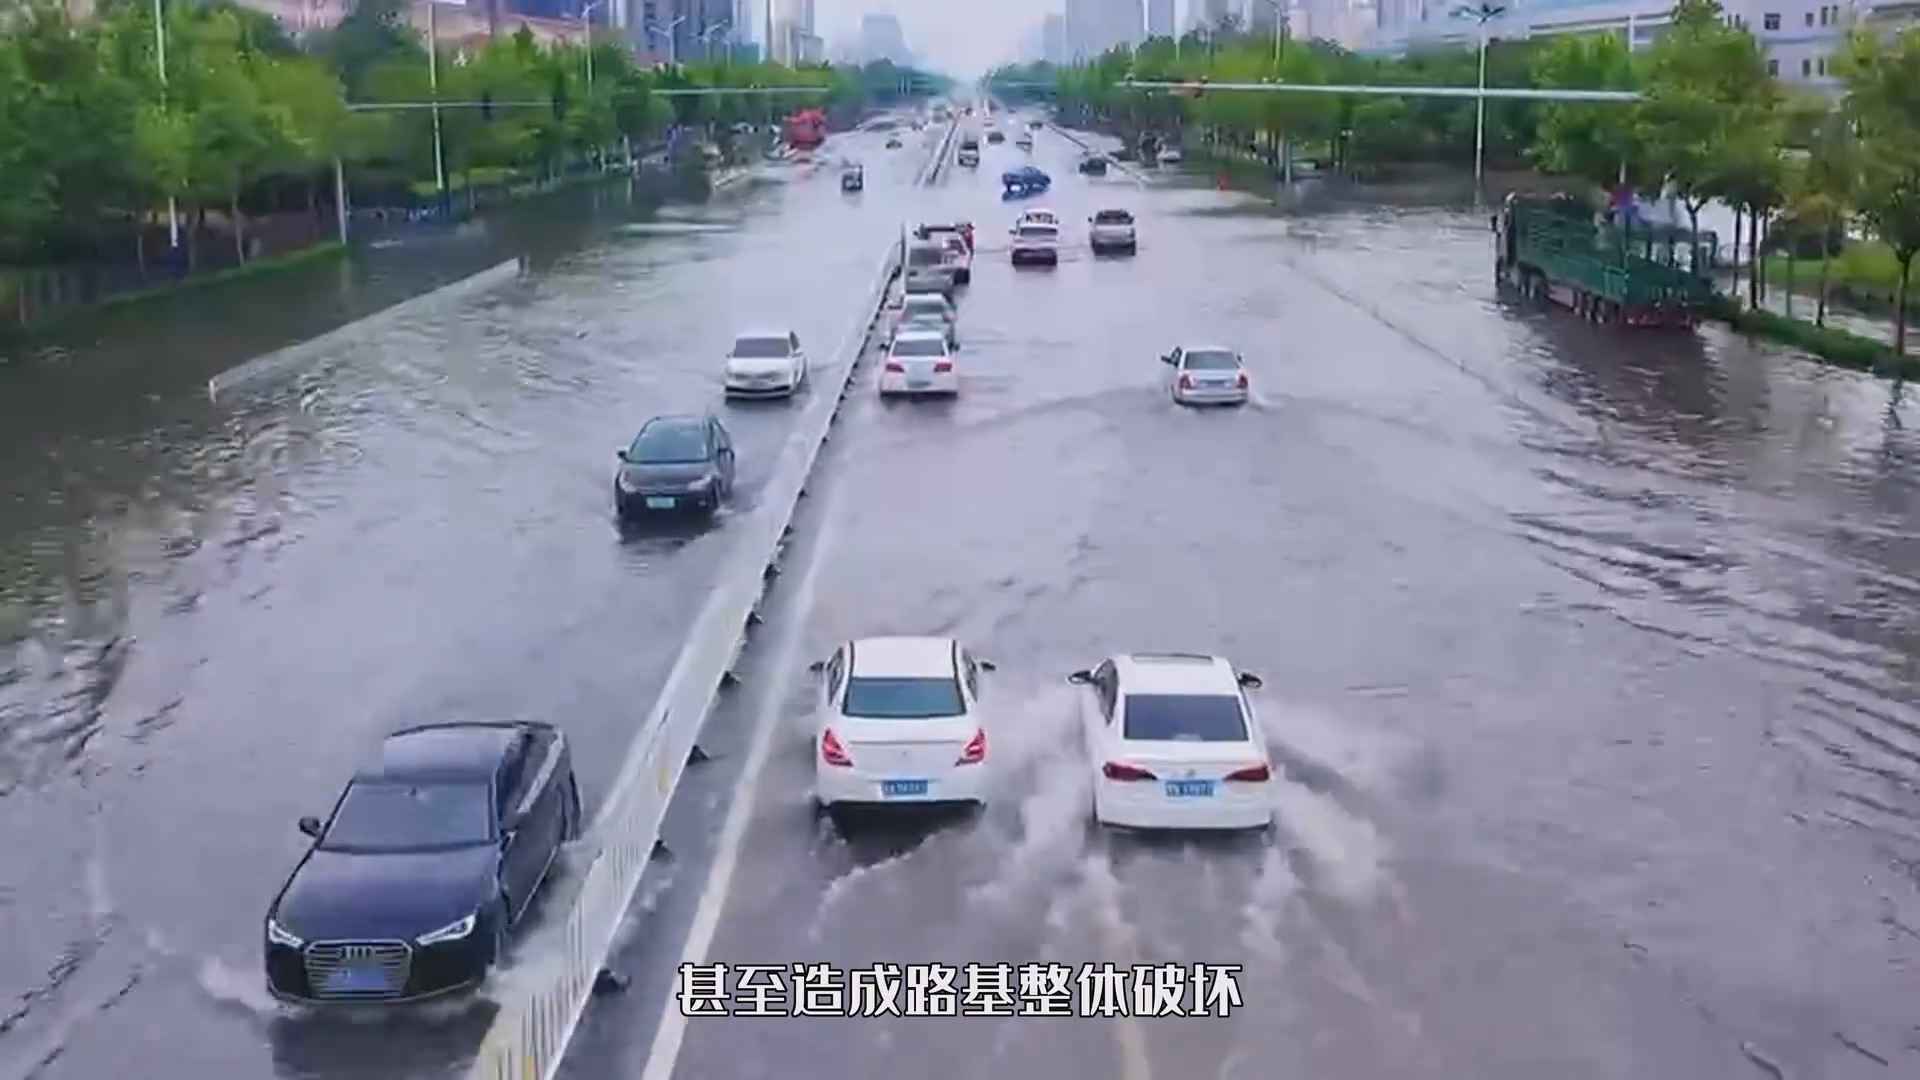puddle: (1, 295, 1920, 1080)
